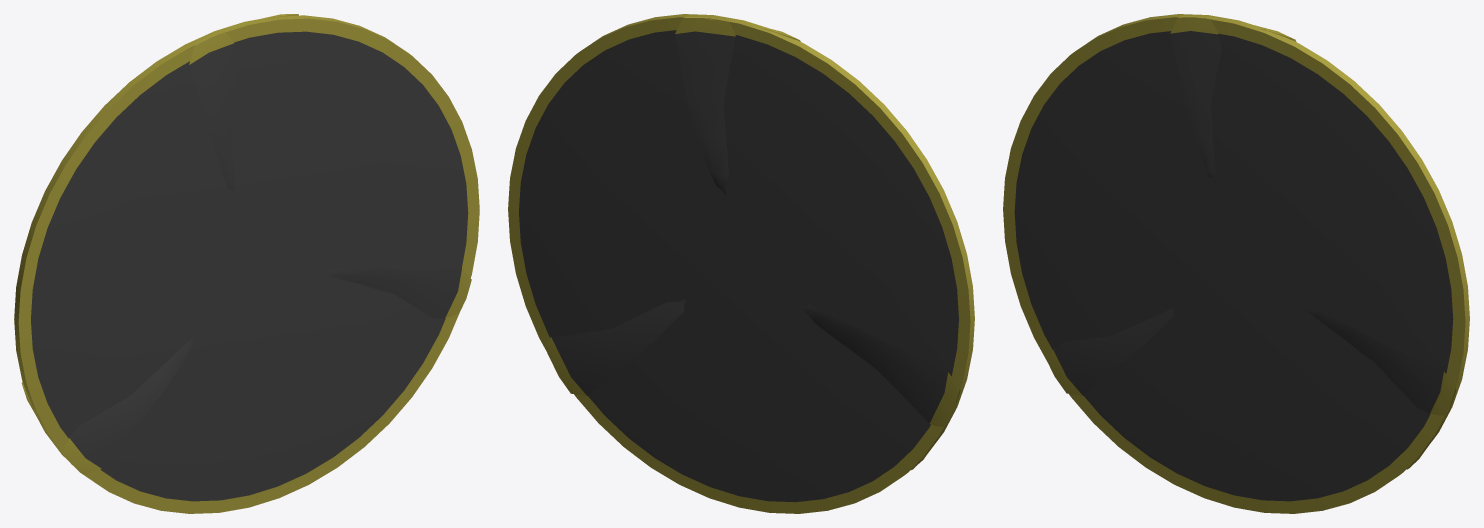
The model's file is Spitfire_propeller_fast.glb.
The picture shows the model from 3 angles, left to right: view 1: azimuth 30°, elevation 25°; view 2: azimuth 150°, elevation 25°; view 3: azimuth 330°, elevation 25°; orthographic projection.
Parts seen in each view (by area): view 1: Cylinder.012, Cylinder.011; view 2: Cylinder.012, Cylinder.011; view 3: Cylinder.012, Cylinder.011.
Part boxes in pixels (bbox=[...]): Cylinder.012: bbox=[14, 15, 479, 513]; Cylinder.011: bbox=[21, 14, 471, 474]; Cylinder.012: bbox=[508, 14, 974, 513]; Cylinder.011: bbox=[544, 16, 960, 470]; Cylinder.012: bbox=[1003, 14, 1469, 513]; Cylinder.011: bbox=[1047, 16, 1455, 469].
Size of the model in its own units: 3 by 3 by 0.1557.
